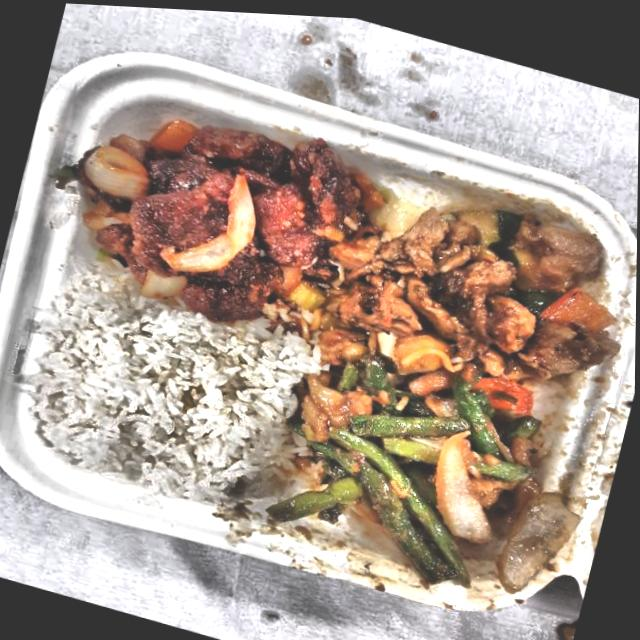Food: (49, 65, 389, 346), (313, 146, 638, 424), (13, 264, 316, 524), (279, 336, 569, 597)
